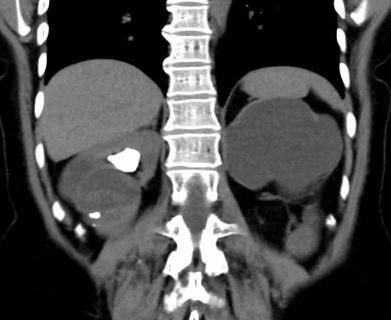Tas_Var: (106, 142, 142, 179), (88, 210, 102, 222), (92, 222, 97, 228)
